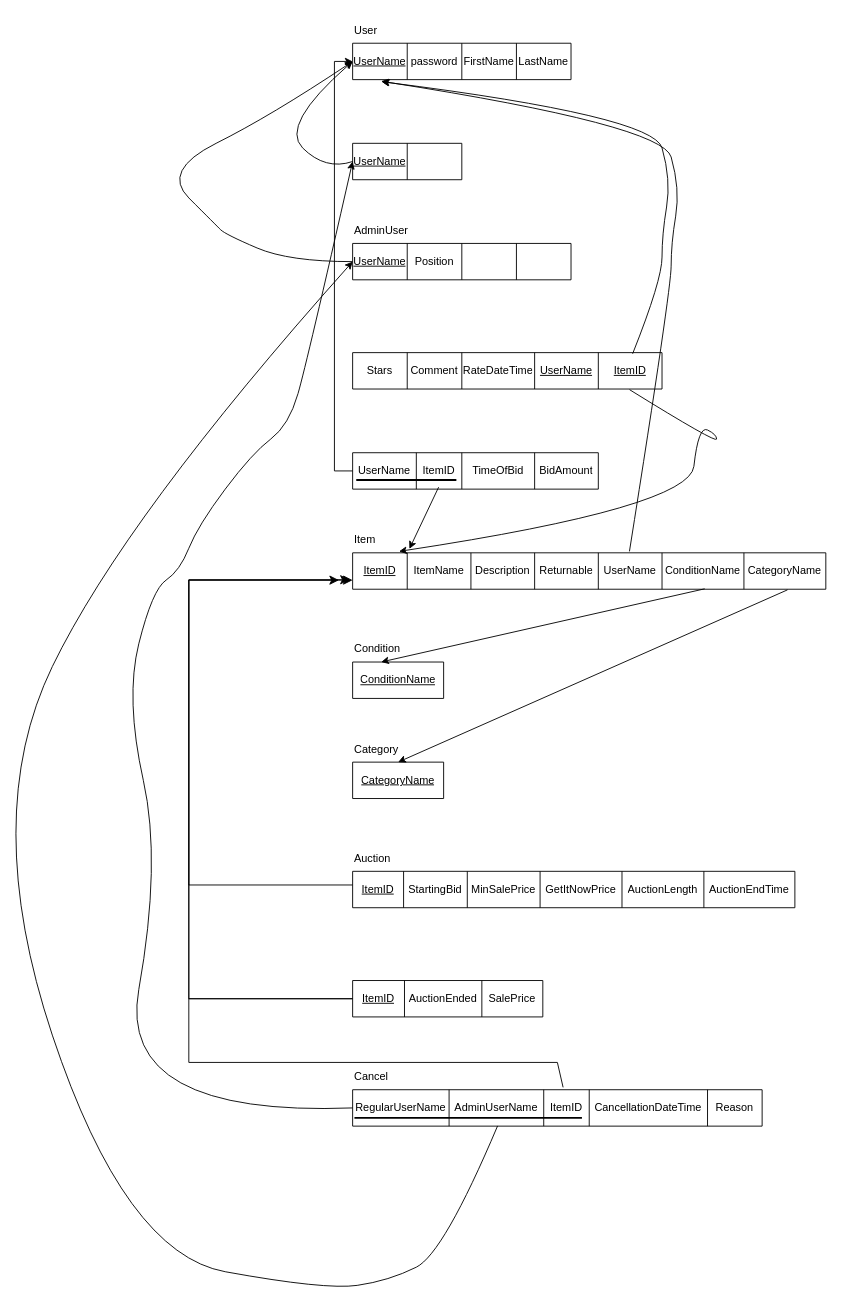
The diagram is 842 pixels wide and 1303 high, and some of its shapes have lost their labels. The shapes that lost their labels are listed below. From the top down, each one's box as (x1, y1, x2, y2) in pixels, then its label:
(352, 115, 462, 180): RegularUser
(352, 324, 662, 389): ItemRating
(352, 425, 598, 489): Bids
(352, 952, 543, 1017): AuctionResult
